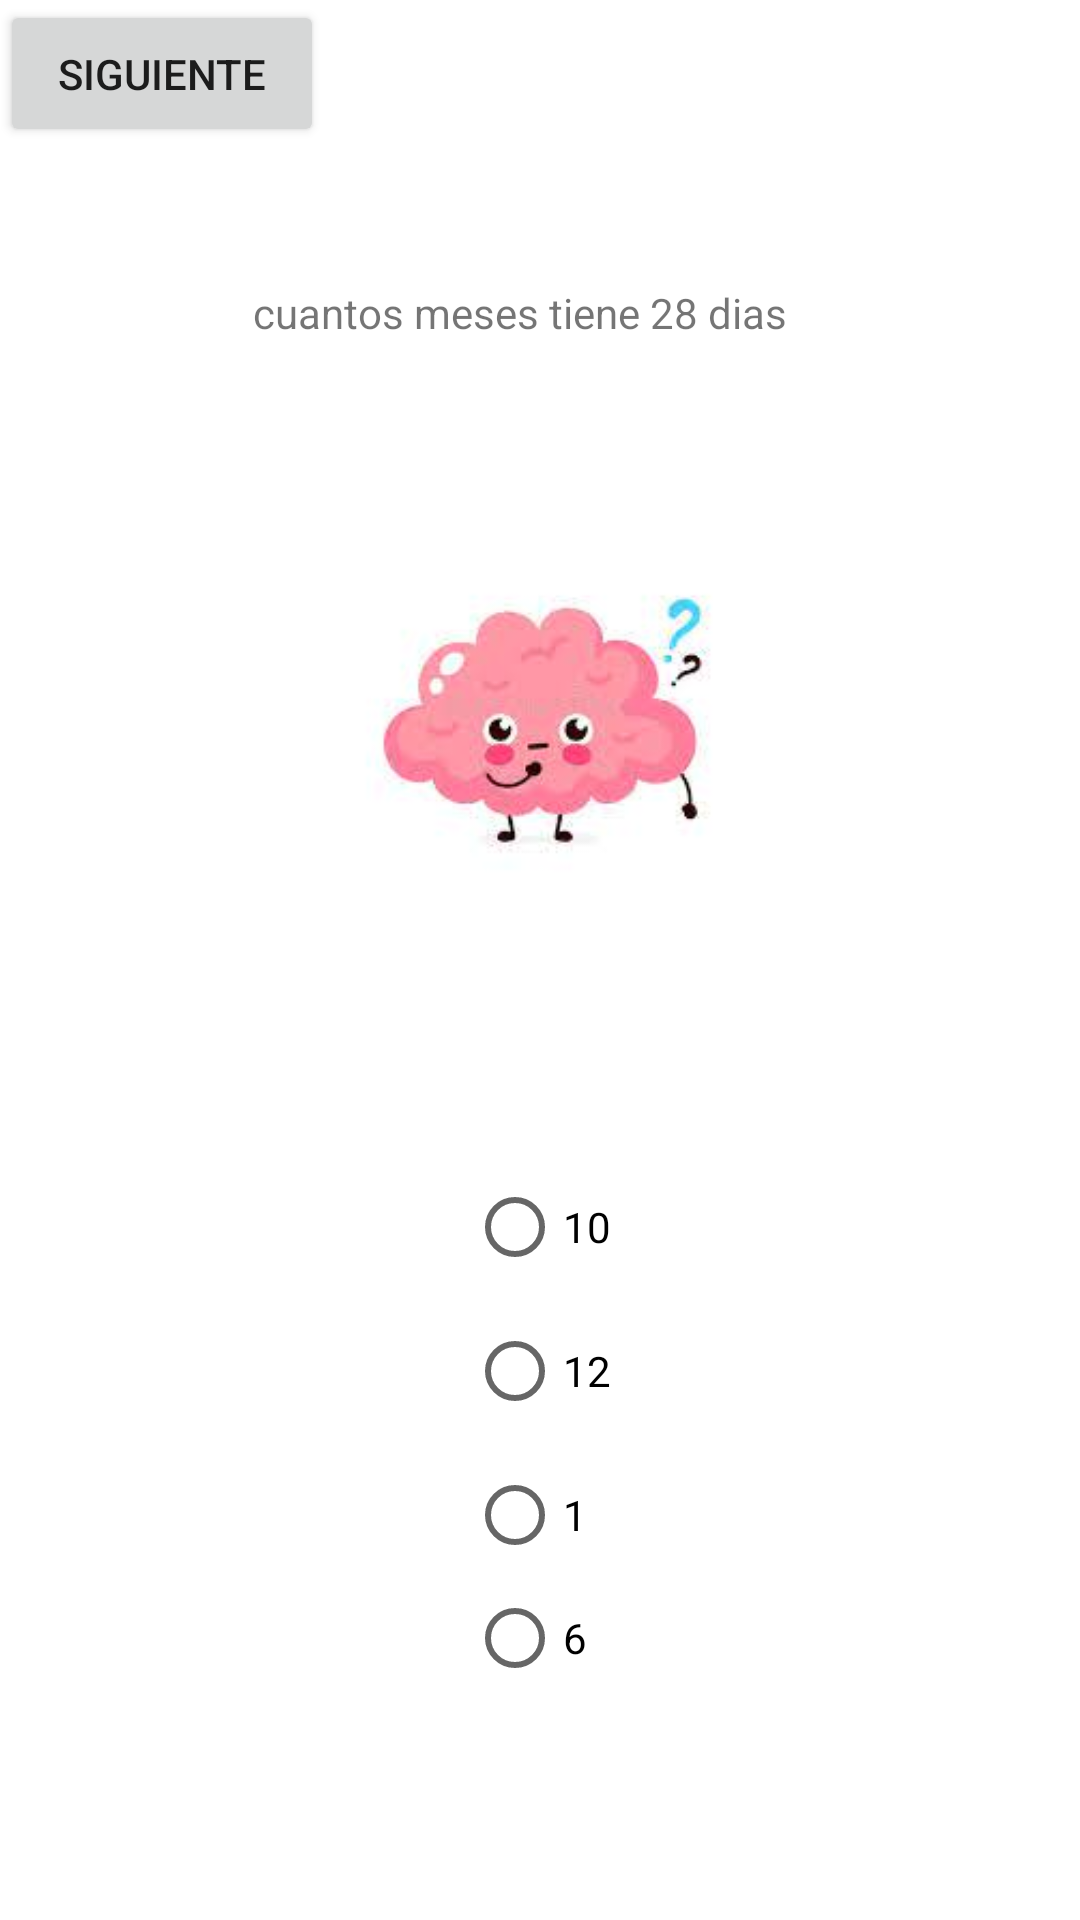

Icons on this 1080w x 1920h Android screen, each with its box as (x1, y1, x2, y2):
cerebroimg: (383, 597, 708, 846)
